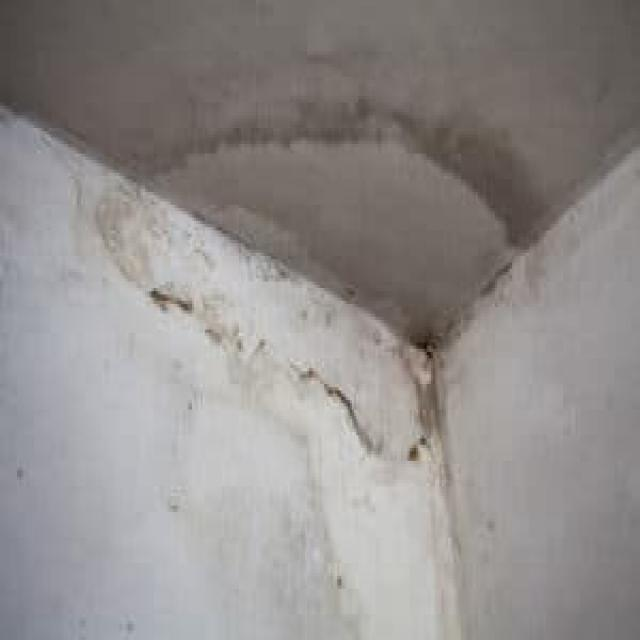tile: (98, 168, 446, 469), (139, 106, 551, 347)
